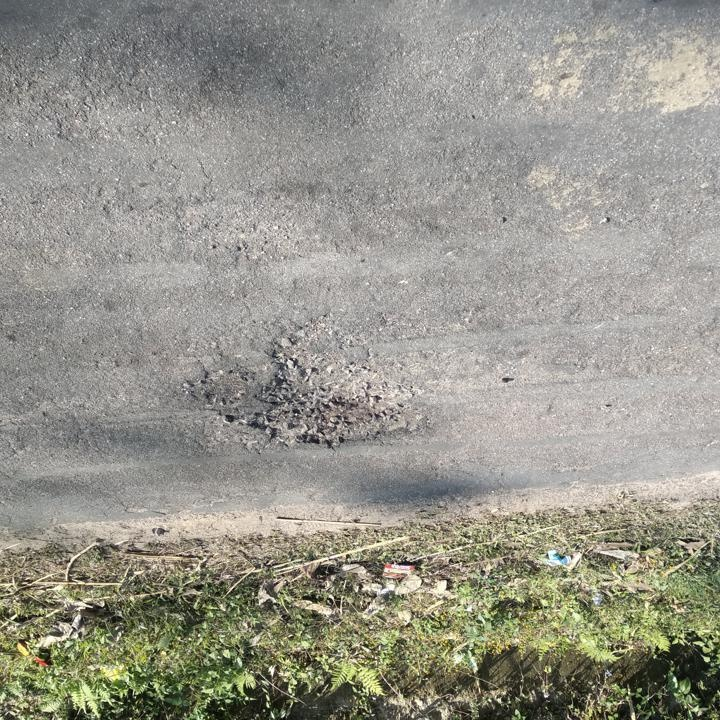pothole: (234, 331, 434, 448)
